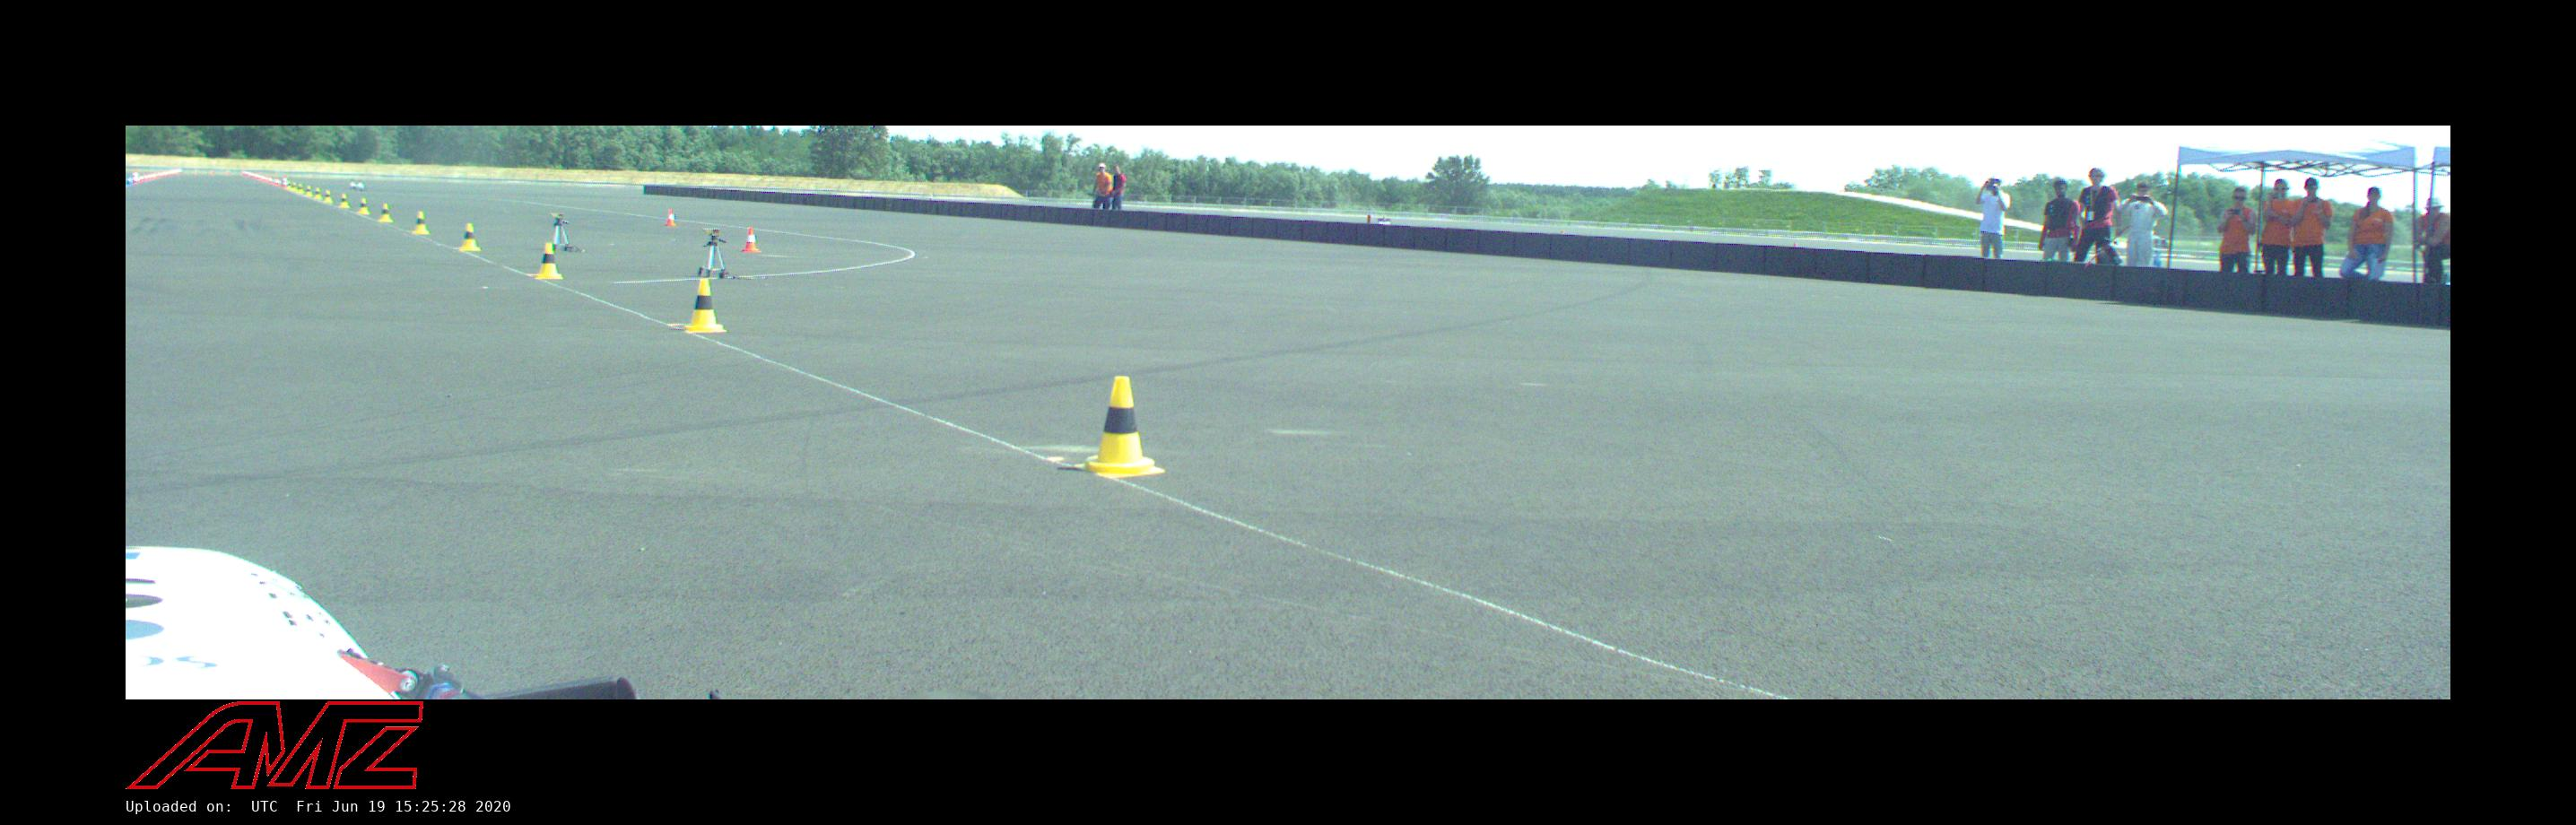orange_cone: (741, 228, 762, 251), (665, 210, 677, 227)
yellow_cone: (1078, 376, 1165, 478), (682, 279, 726, 334), (534, 243, 562, 279), (460, 224, 478, 250), (412, 212, 430, 233), (378, 204, 394, 222), (355, 197, 370, 214), (337, 192, 350, 209), (324, 191, 332, 202), (314, 187, 322, 199), (306, 186, 312, 196), (297, 184, 304, 194), (291, 182, 297, 191), (286, 181, 291, 189)
